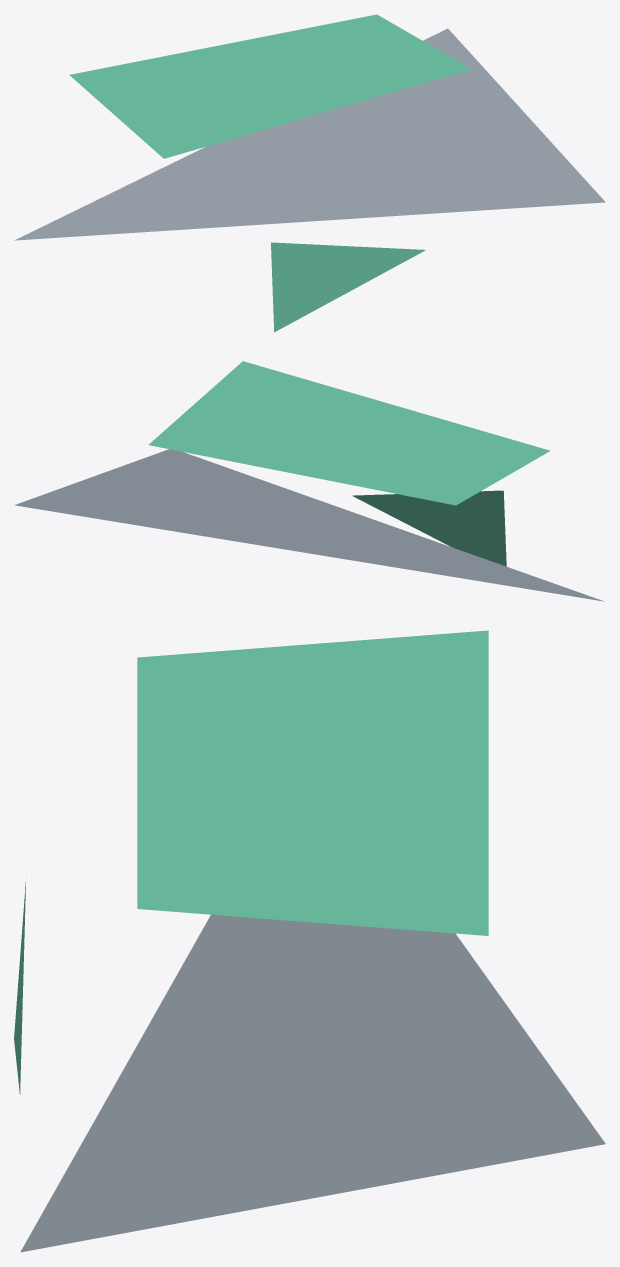
Rendered from CO_MonsoonArtillery_LOD2.glb.
The picture shows the model from 3 angles, top to bottom: view 1: azimuth 30°, elevation 25°; view 2: azimuth 150°, elevation 25°; view 3: azimuth 270°, elevation 25°; orthographic projection. The views are drawn at different scales.
Visible parts, largest first — view 1: EntranceGate; view 2: EntranceGate; view 3: EntranceGate.
Boxes of the visible parts, x1,y1,x2,y2 form: EntranceGate: (14,14,605,332); EntranceGate: (14,361,604,601); EntranceGate: (14,630,605,1252).
Size of the model in its own units: 600 by 204 by 323.
